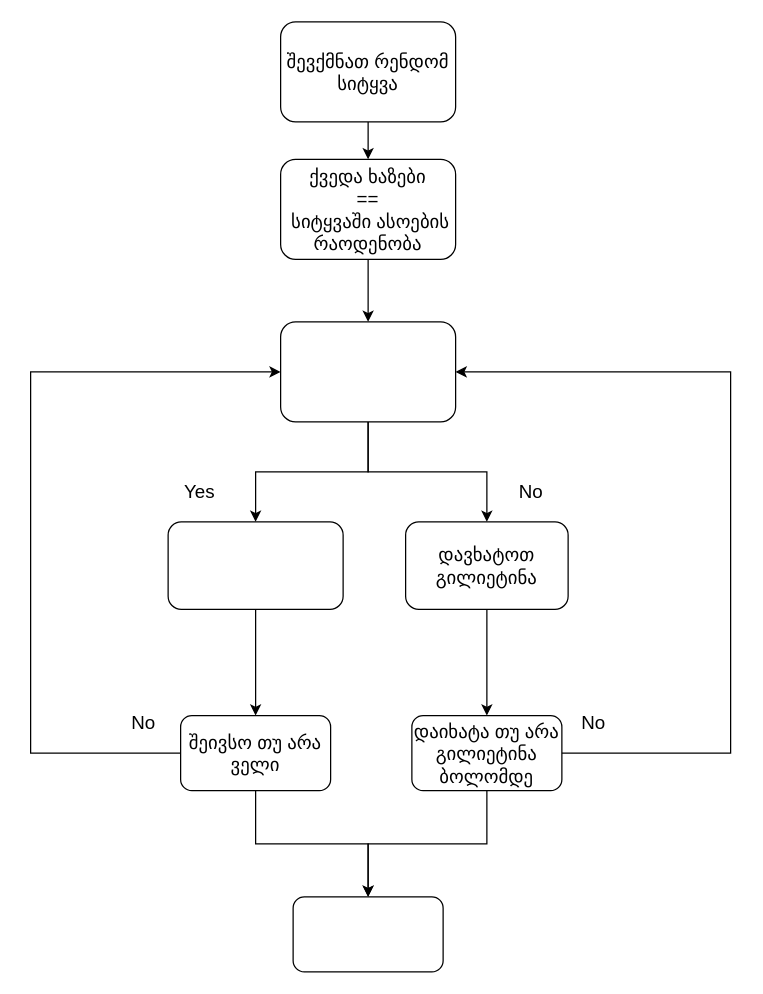
This 763x994 diagram has some shape labels left out. The box of each missing label's shape, as (x1, y1, x2, y2) in pixels:
Game Over: (292, 896, 443, 972)
Replace ქვედა ტირე ასოთ: (167, 521, 343, 609)
User-მა დაწეროს ასო: (279, 321, 456, 422)
